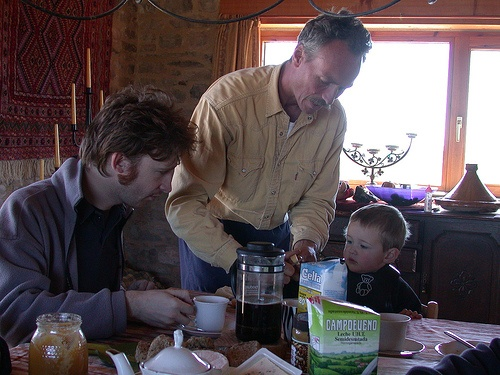head: (79, 85, 185, 212), (286, 10, 374, 120), (342, 201, 410, 277)
person: (1, 75, 226, 349), (163, 8, 374, 286), (333, 200, 428, 319)
